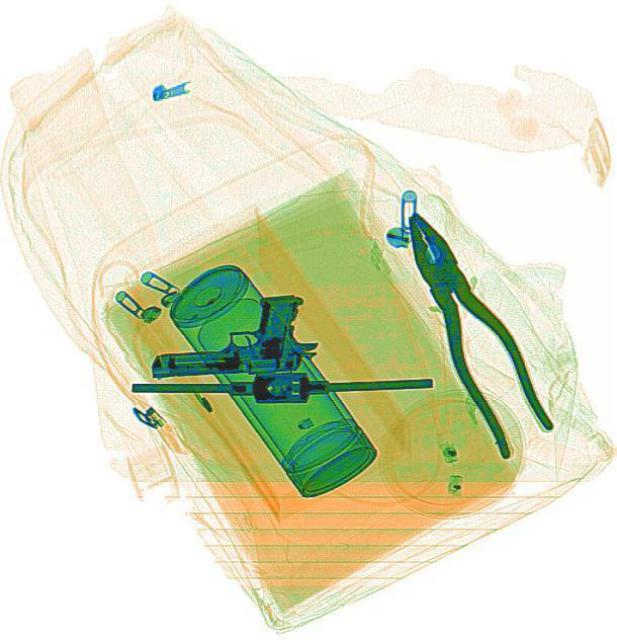Gun: (145, 291, 320, 377)
Pliers: (378, 195, 561, 459)
